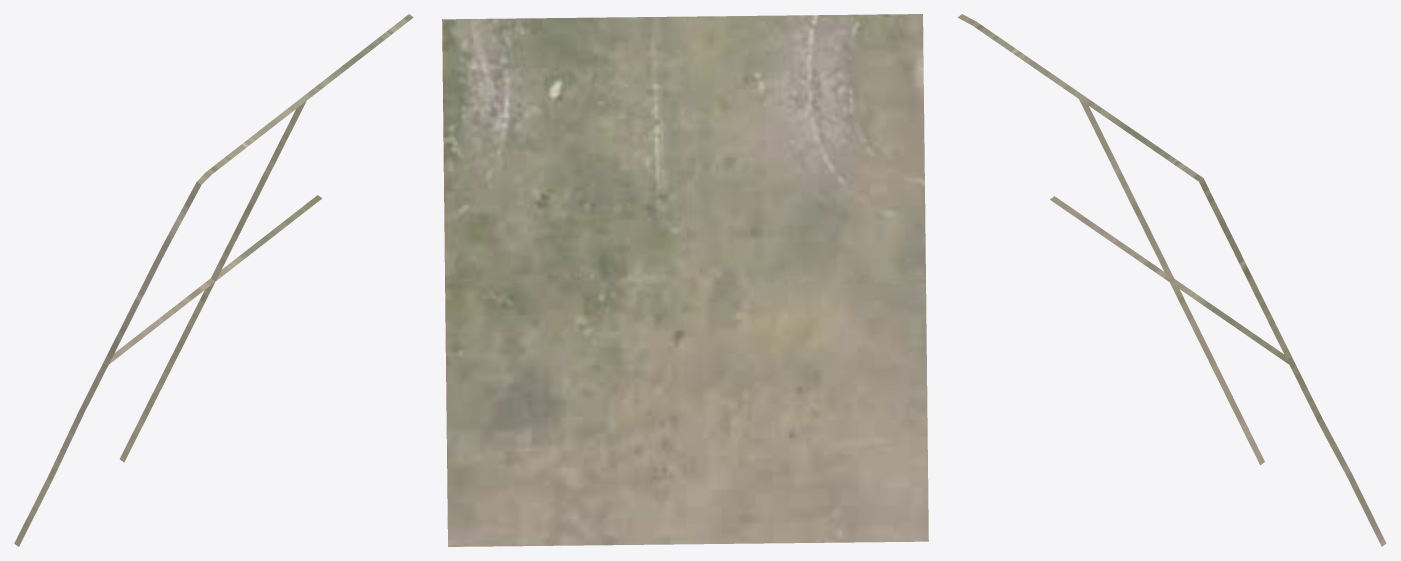
The picture shows the model from 3 angles, left to right: view 1: azimuth 30°, elevation 25°; view 2: azimuth 150°, elevation 25°; view 3: azimuth 270°, elevation 25°; orthographic projection. The views are drawn at different scales.
Bounding box in the file's own units: 38.11 × 34.74 × 32.43.
1 material, 1 textured.
